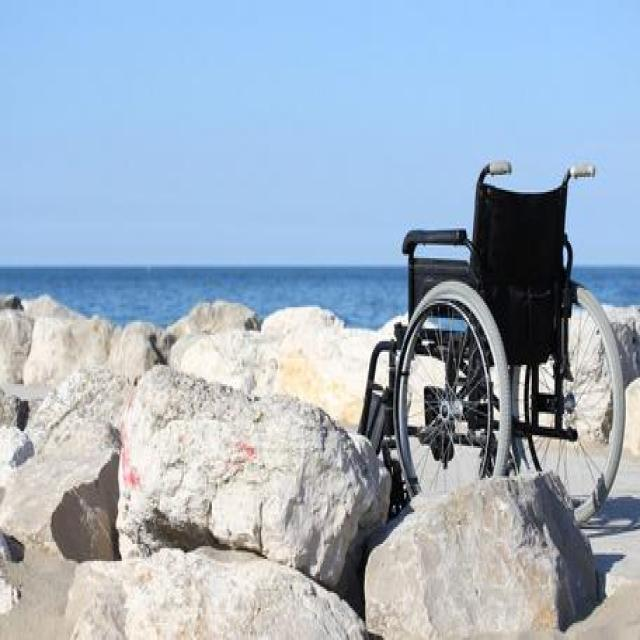wheelchairs: (352, 147, 631, 547)
